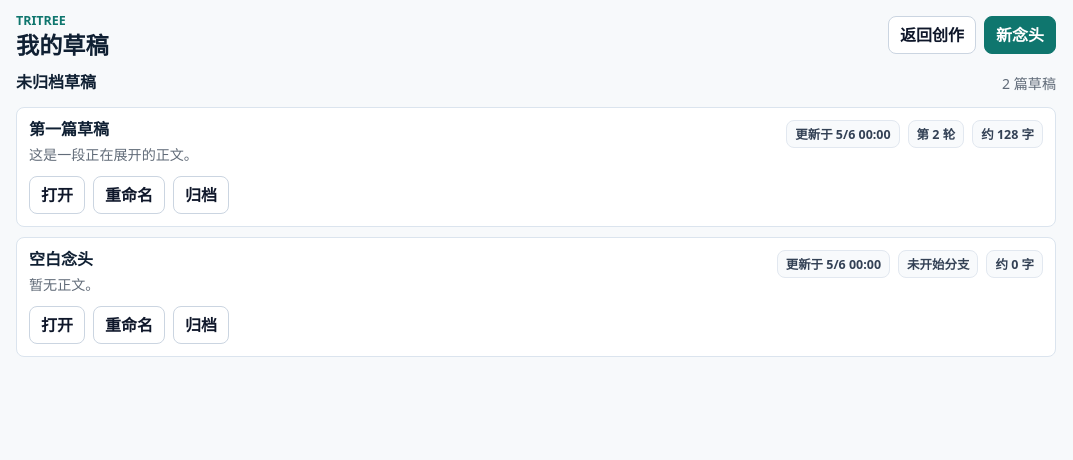
Test: DraftManagementPanel › renames a draft with a trimmed title and refreshes the row
Click the button "重命名" below "这是一段正在展开的正文。" at (129,195), box [93,176,165,214]
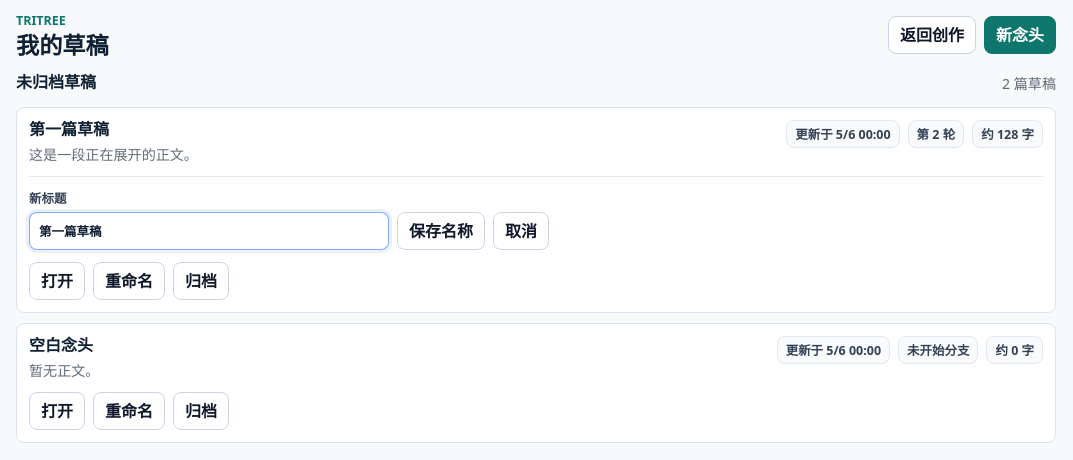
Replace the text in the field labelled "新标题" with "  新标题  " at (209,231), box [29,212,389,250]
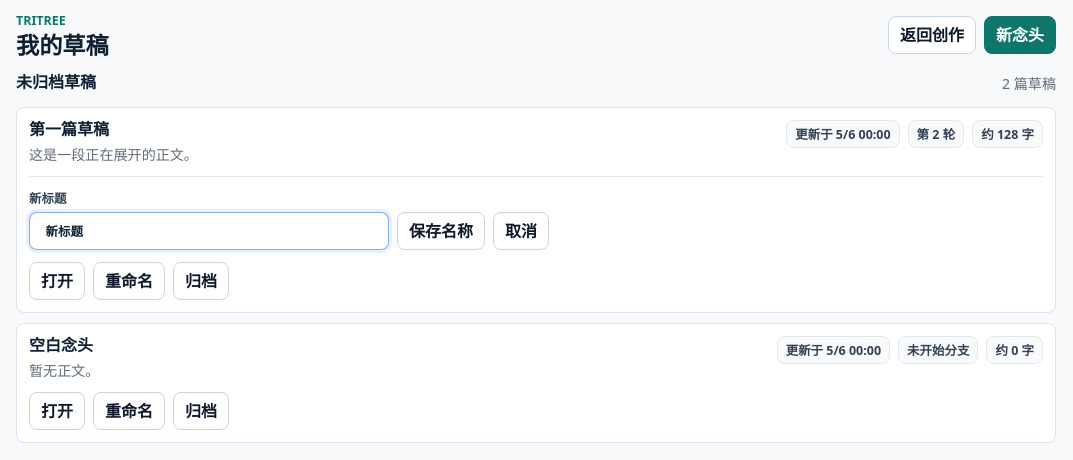
Click the button "保存名称" at (441,231), box [397,212,485,250]
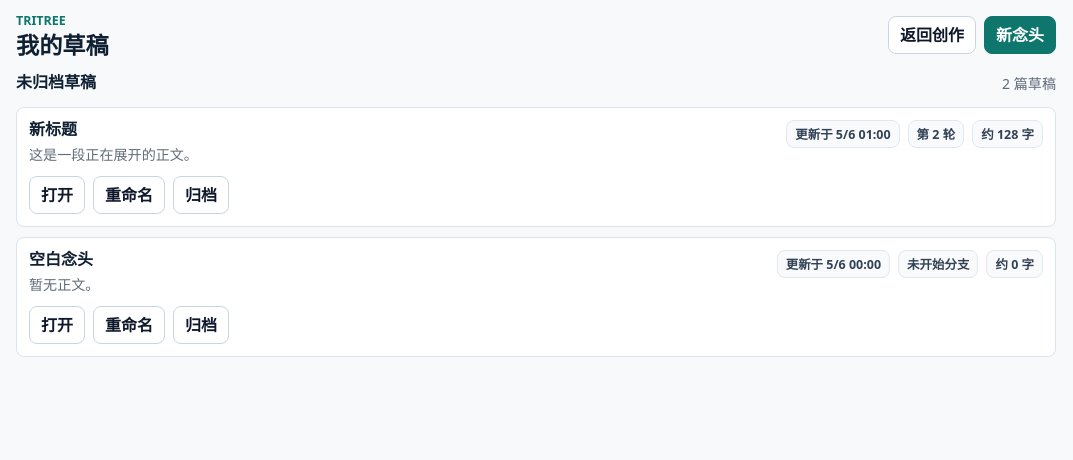
Expected: the element "新标题" is shown, [16,107,1056,227]
Expected: the button "保存名称" is gone
